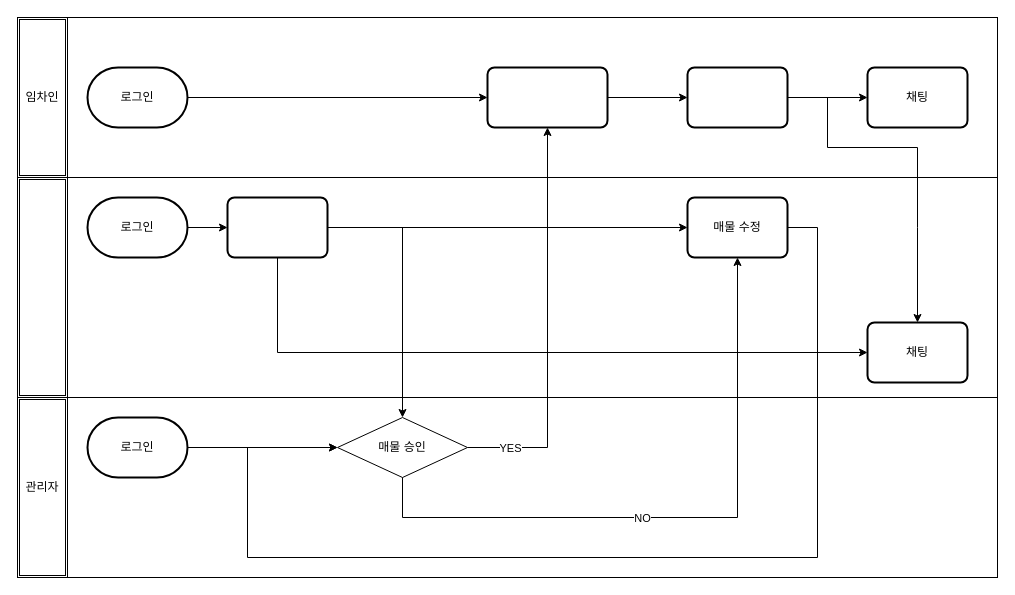
Some shapes in this 1015 by 595 pixel diagram are drawn without their labels. Each missing label, with the centre of its shape:
"매물 등록" goes at [277,227].
"매물 맞춤 진단 ·탐색" goes at [547,97].
"매물 신청" goes at [737,97].
"임대인" goes at [42,287].
